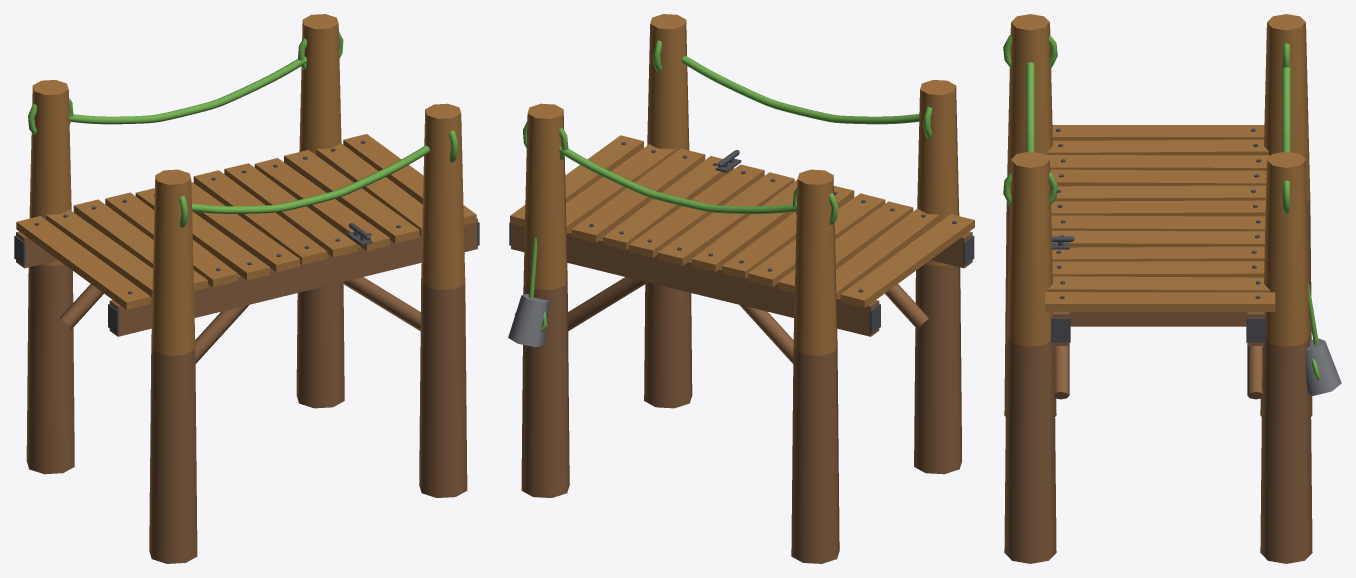
Rendered from dock-segment.glb.
The picture shows the model from 3 angles, left to right: view 1: azimuth 30°, elevation 25°; view 2: azimuth 150°, elevation 25°; view 3: azimuth 270°, elevation 25°; orthographic projection. The views are drawn at different scales.
Visible parts, largest first — view 1: Mesh_PilingL_3, Mesh_PilingL_1, Mesh_PilingL_2, Mesh_StringerR, Mesh_PilingU_3, Mesh_PilingU_1, Mesh_PilingL_0, Mesh_PilingU_2, Mesh_PilingU_0, Mesh_Plank_0, Mesh_Plank_9, Mesh_Plank_6 (+15 smaller); view 2: Mesh_PilingL_2, Mesh_PilingL_3, Mesh_PilingL_0, Mesh_StringerL, Mesh_PilingU_2, Mesh_PilingU_0, Mesh_PilingL_1, Mesh_PilingU_3, Mesh_PilingU_1, Mesh_Plank_0, Mesh_Plank_9, Mesh_Plank_6 (+16 smaller); view 3: Mesh_PilingL_1, Mesh_PilingL_0, Mesh_PilingU_1, Mesh_PilingU_0, Mesh_PilingU_2, Mesh_PilingU_3, Mesh_Plank_11, Mesh_Plank_10, Mesh_Plank_9, Mesh_Plank_3, Mesh_Plank_2, Mesh_Plank_1 (+15 smaller).
Part boxes in pixels (x1=…): Mesh_PilingL_3: x1=149, y1=345, x2=197, y2=563; Mesh_PilingL_1: x1=419, y1=278, x2=467, y2=497; Mesh_PilingL_2: x1=26, y1=264, x2=74, y2=474; Mesh_StringerR: x1=109, y1=218, x2=477, y2=336; Mesh_PilingU_3: x1=151, y1=169, x2=195, y2=355; Mesh_PilingU_1: x1=421, y1=103, x2=465, y2=289; Mesh_PilingL_0: x1=296, y1=282, x2=344, y2=408; Mesh_PilingU_2: x1=29, y1=80, x2=71, y2=266; Mesh_PilingU_0: x1=299, y1=14, x2=341, y2=154; Mesh_Plank_0: x1=16, y1=216, x2=150, y2=309; Mesh_Plank_9: x1=284, y1=150, x2=419, y2=243; Mesh_Plank_6: x1=193, y1=170, x2=327, y2=264; Mesh_PilingL_2: x1=791, y1=344, x2=839, y2=563; Mesh_PilingL_3: x1=914, y1=264, x2=961, y2=474; Mesh_PilingL_0: x1=521, y1=279, x2=569, y2=497; Mesh_StringerL: x1=511, y1=224, x2=879, y2=336; Mesh_PilingU_2: x1=793, y1=169, x2=837, y2=355; Mesh_PilingU_0: x1=523, y1=103, x2=567, y2=289; Mesh_PilingL_1: x1=644, y1=282, x2=692, y2=408; Mesh_PilingU_3: x1=917, y1=80, x2=959, y2=266; Mesh_PilingU_1: x1=647, y1=14, x2=689, y2=151; Mesh_Plank_0: x1=840, y1=214, x2=974, y2=307; Mesh_Plank_9: x1=571, y1=148, x2=705, y2=242; Mesh_Plank_6: x1=657, y1=172, x2=794, y2=265; Mesh_PilingL_1: x1=1004, y1=337, x2=1056, y2=563; Mesh_PilingL_0: x1=1260, y1=337, x2=1312, y2=563; Mesh_PilingU_1: x1=1006, y1=151, x2=1052, y2=346; Mesh_PilingU_0: x1=1264, y1=151, x2=1310, y2=346; Mesh_PilingU_2: x1=1264, y1=14, x2=1310, y2=201; Mesh_PilingU_3: x1=1007, y1=14, x2=1052, y2=176; Mesh_Plank_11: x1=1045, y1=292, x2=1275, y2=311; Mesh_Plank_10: x1=1048, y1=276, x2=1270, y2=292; Mesh_Plank_9: x1=1052, y1=261, x2=1264, y2=277; Mesh_Plank_3: x1=1050, y1=169, x2=1266, y2=186; Mesh_Plank_2: x1=1046, y1=155, x2=1270, y2=170; Mesh_Plank_1: x1=1046, y1=139, x2=1268, y2=155.
Bounding box in the file's own units: 2.01 × 2 × 1.56.
1 material, 1 textured.
